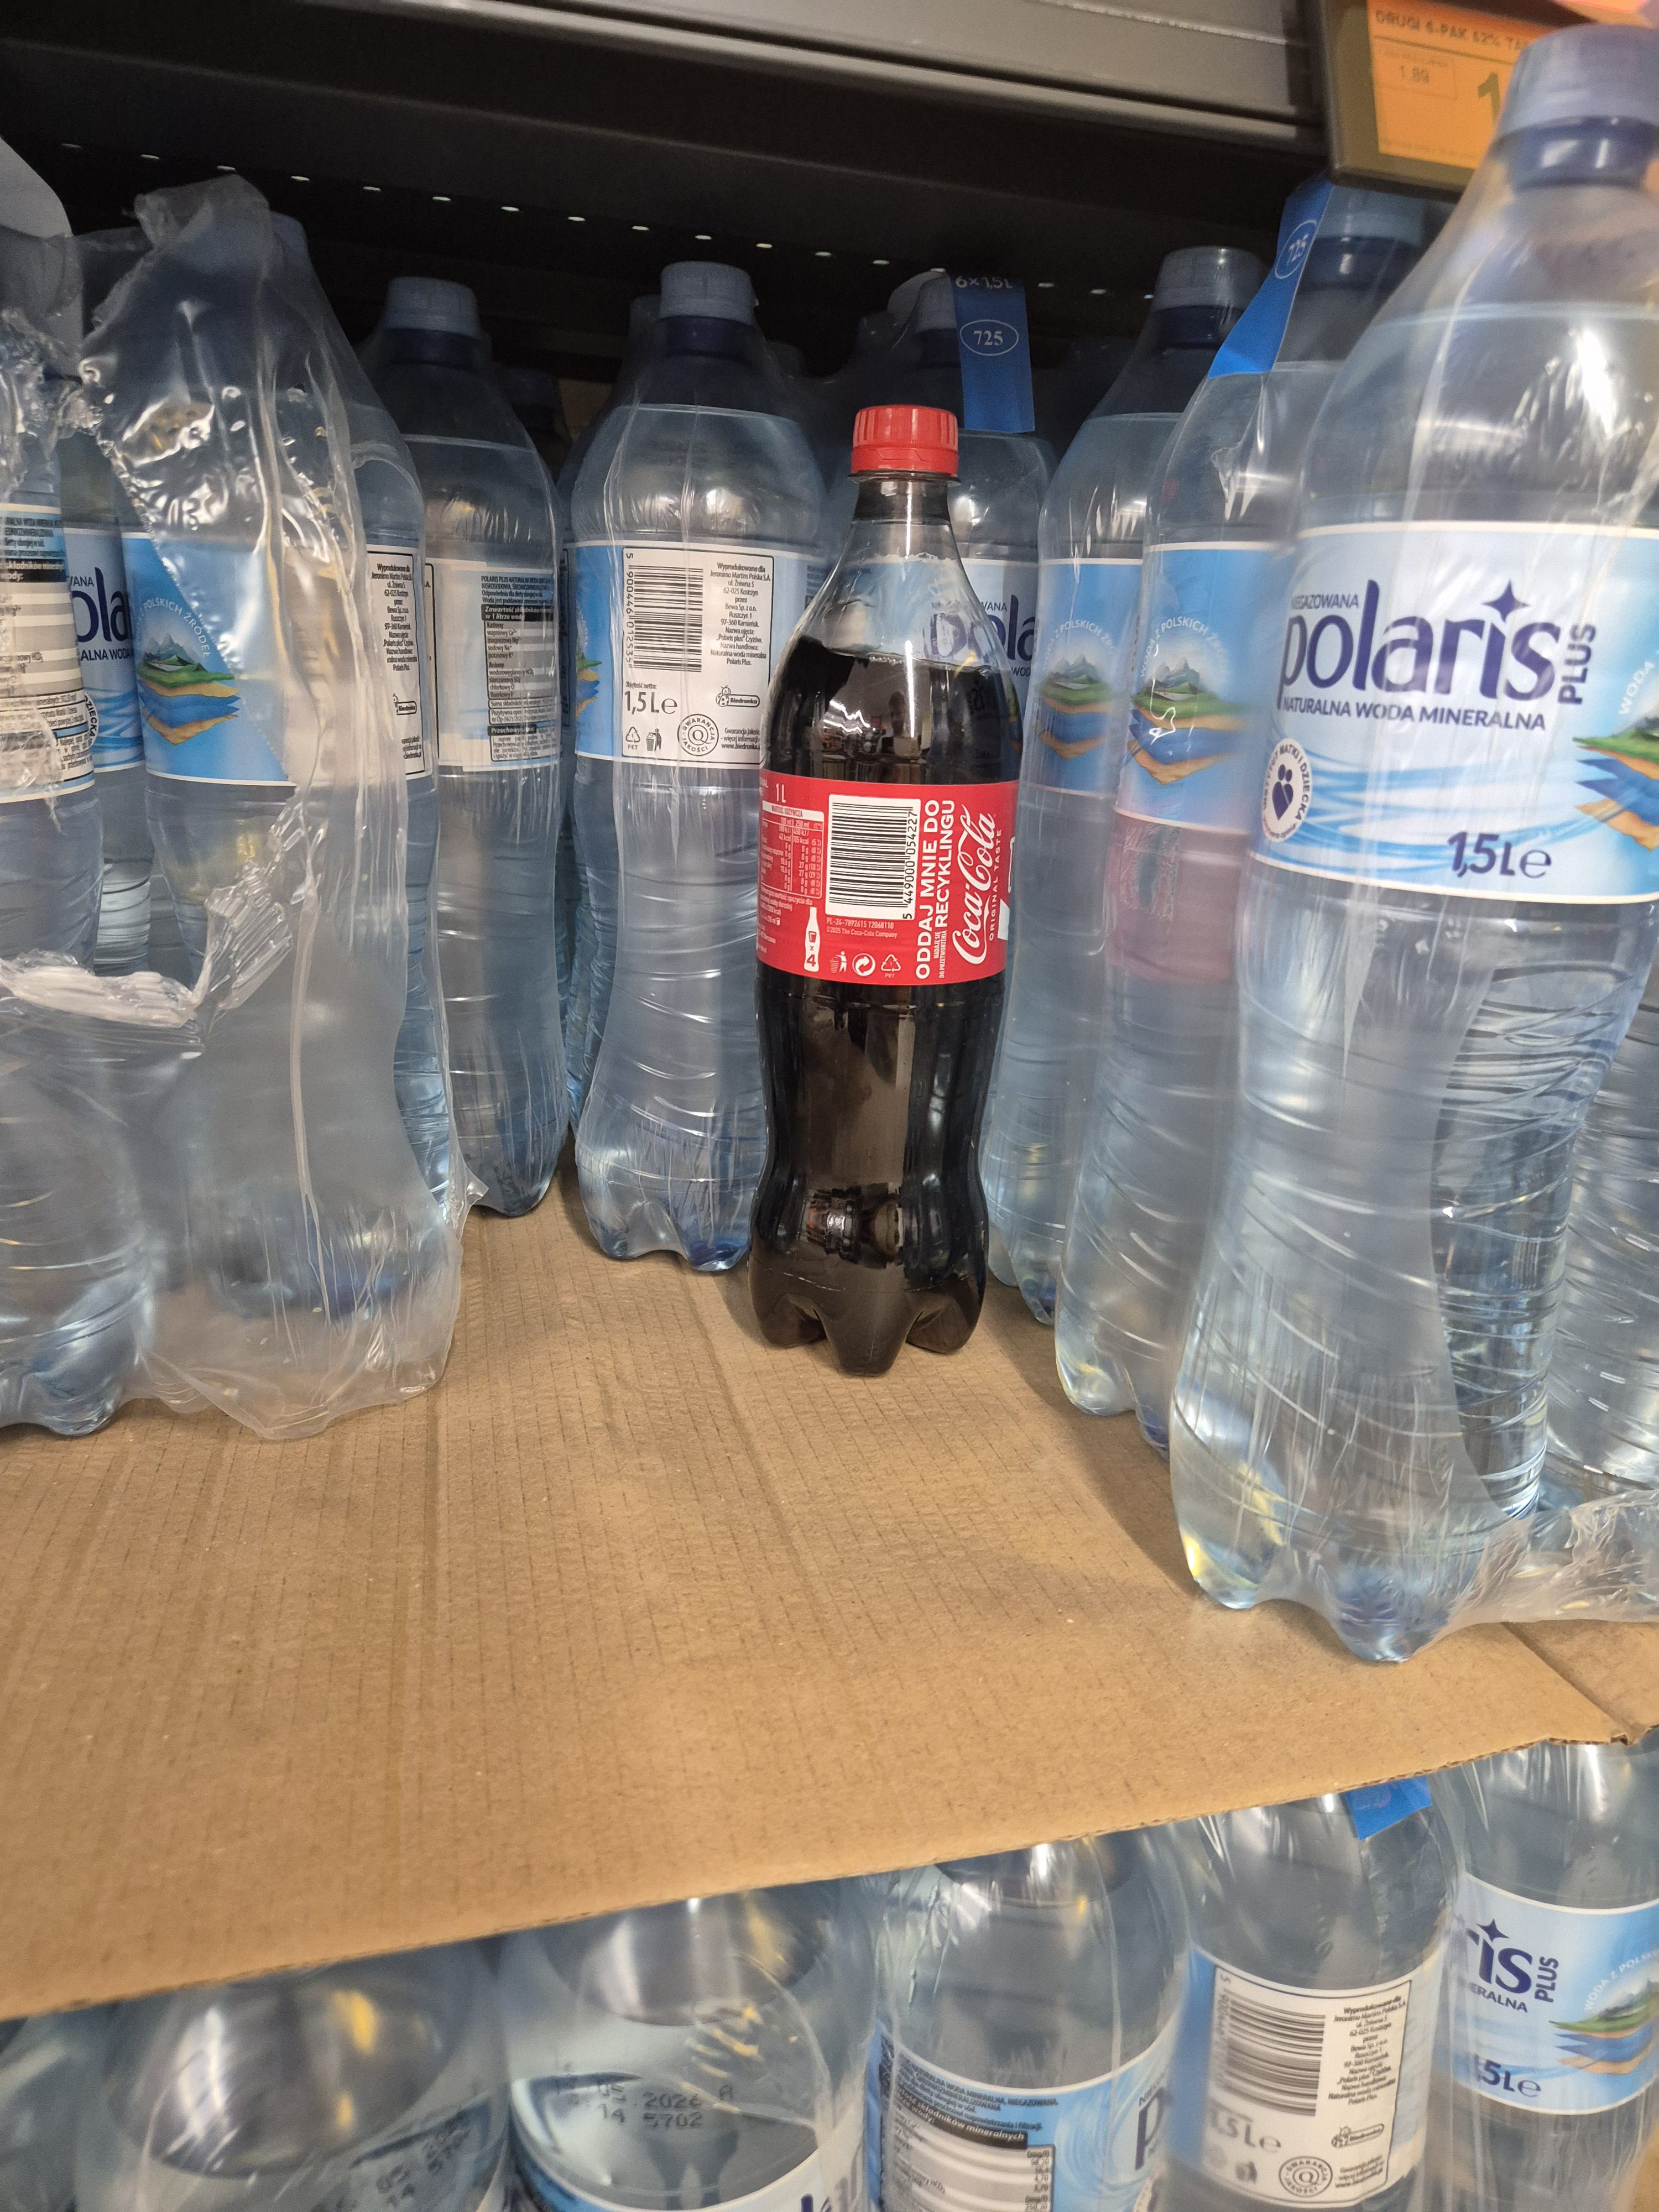Coca Cola: (763, 397, 1023, 1362)
